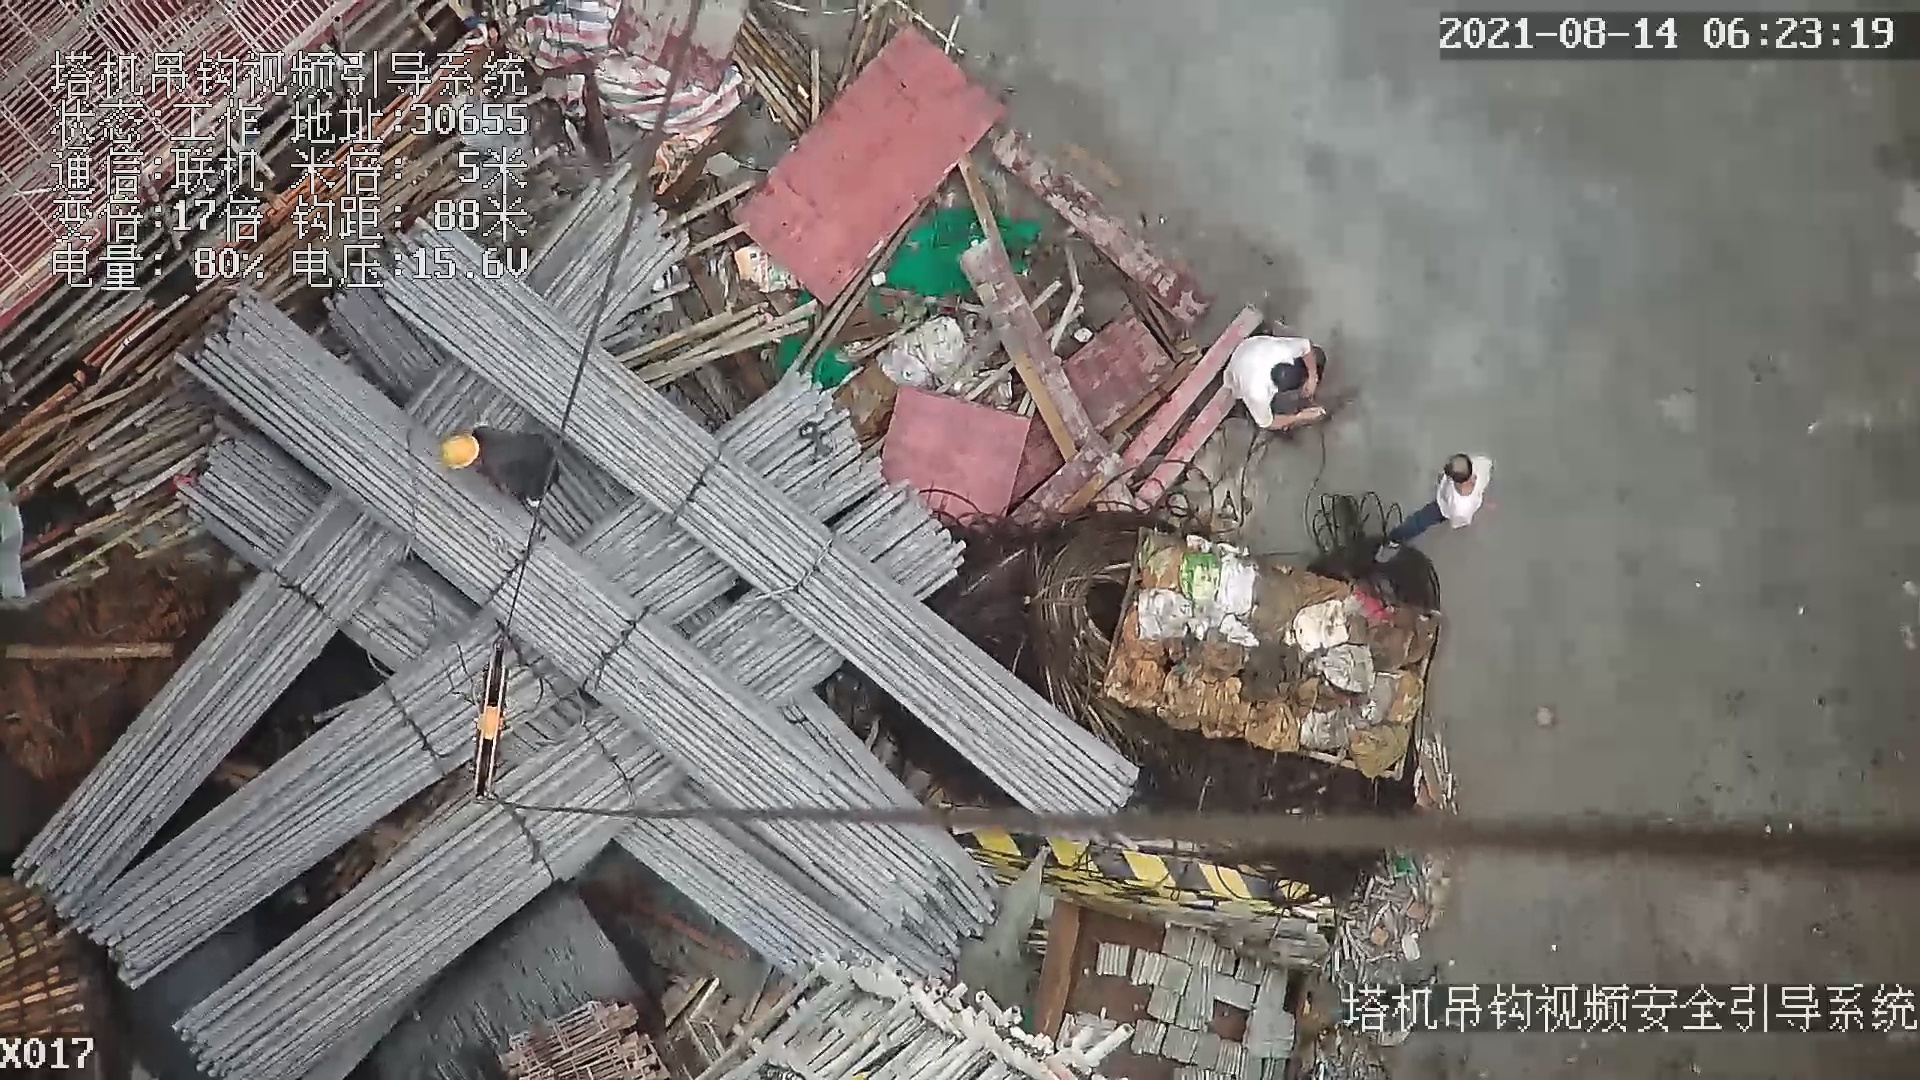helmet: (443, 432, 481, 475)
person: (1374, 433, 1496, 560), (445, 418, 565, 523), (1223, 330, 1336, 433)
